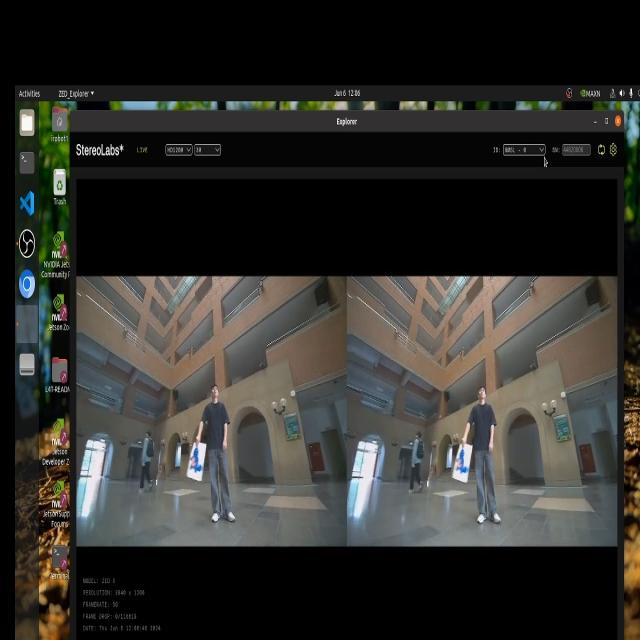blue: (187, 442, 206, 482), (462, 447, 469, 481)
